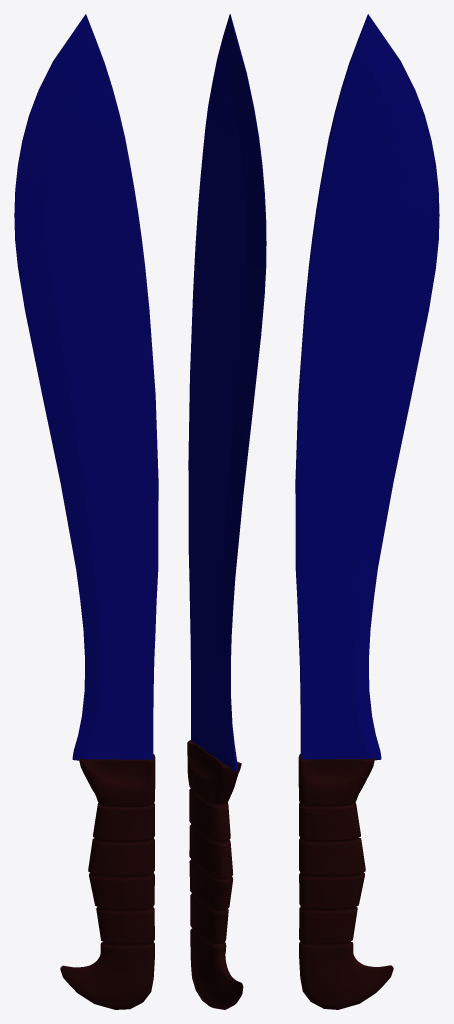
The model's file is weapon_machete.glb.
The picture shows the model from 3 angles, left to right: view 1: azimuth 90°, elevation 25°; view 2: azimuth 210°, elevation 25°; view 3: azimuth 270°, elevation 25°; orthographic projection.
Parts seen in each view (by area): view 1: Machete; view 2: Machete; view 3: Machete.
Part boxes in pixels (x1,y1,x2,y2): Machete: [14, 14, 158, 1009]; Machete: [187, 14, 266, 1009]; Machete: [295, 14, 439, 1009].
Bounding box in the file's own units: 0.015 × 0.6707 × 0.088.
Materials: 1 (1 with a texture image).
